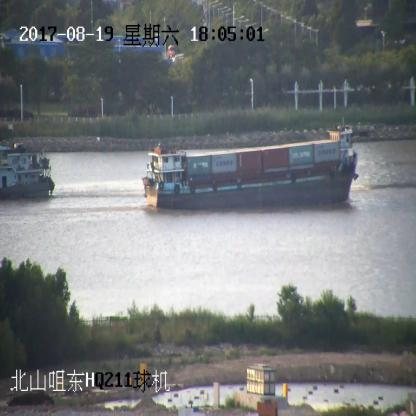Container Ship: (142, 126, 360, 210)
